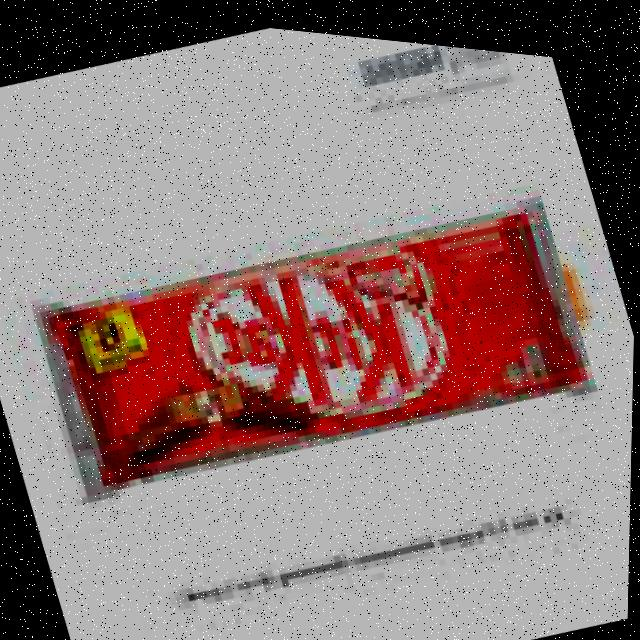kitkat: (30, 144, 604, 546)
